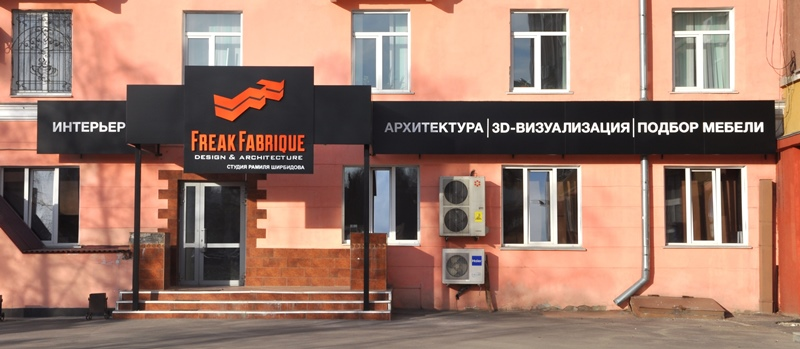door: (174, 184, 246, 284)
signboard: (37, 68, 776, 183)
window: (665, 167, 745, 248), (503, 168, 577, 250), (1, 168, 77, 244), (342, 168, 419, 242), (673, 10, 733, 92), (12, 14, 73, 94), (511, 12, 567, 96), (353, 13, 405, 91), (183, 14, 242, 67)
